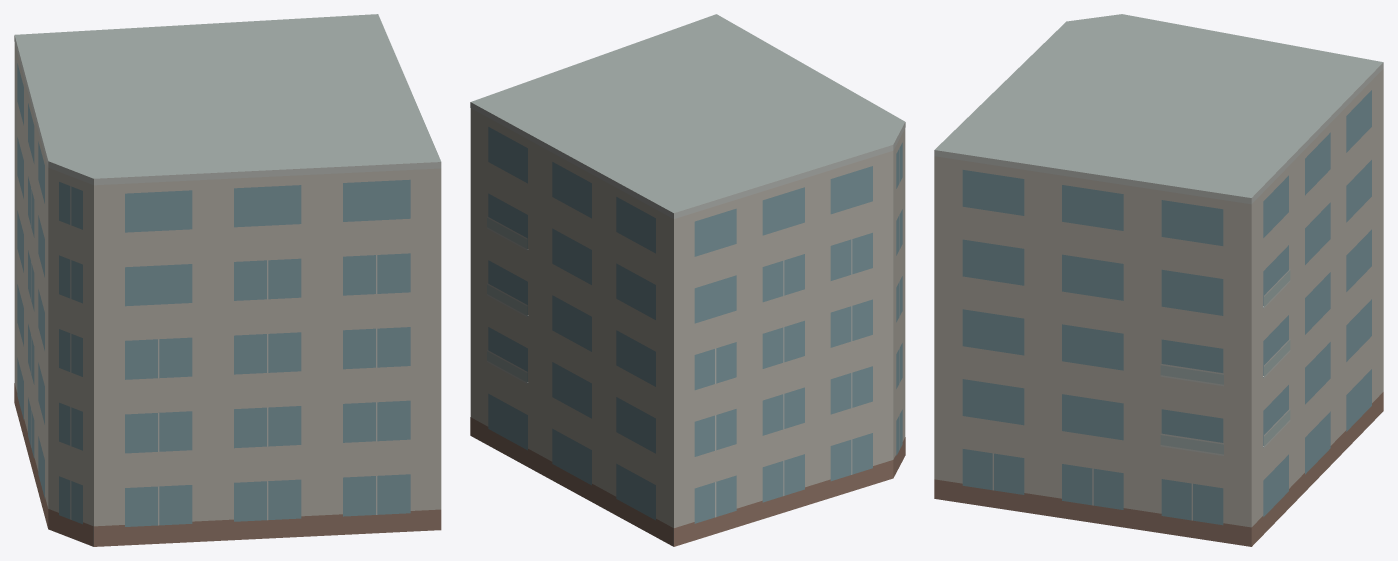
Rendered from survey-upis-33012763.glb.
3 views of the same model, side by side, from view 1: azimuth 30°, elevation 25°; view 2: azimuth 150°, elevation 25°; view 3: azimuth 270°, elevation 25° (orthographic). The views are drawn at different scales.
Visible parts, largest first — view 1: survey-upis-33012763.tmp; view 2: survey-upis-33012763.tmp; view 3: survey-upis-33012763.tmp.
Part boxes in pixels (box(x1,y1,x2,y2)): survey-upis-33012763.tmp: box(14, 14, 441, 546); survey-upis-33012763.tmp: box(470, 14, 905, 546); survey-upis-33012763.tmp: box(934, 14, 1383, 546).
Bounding box in the file's own units: 15.57 × 13.75 × 16.06.
